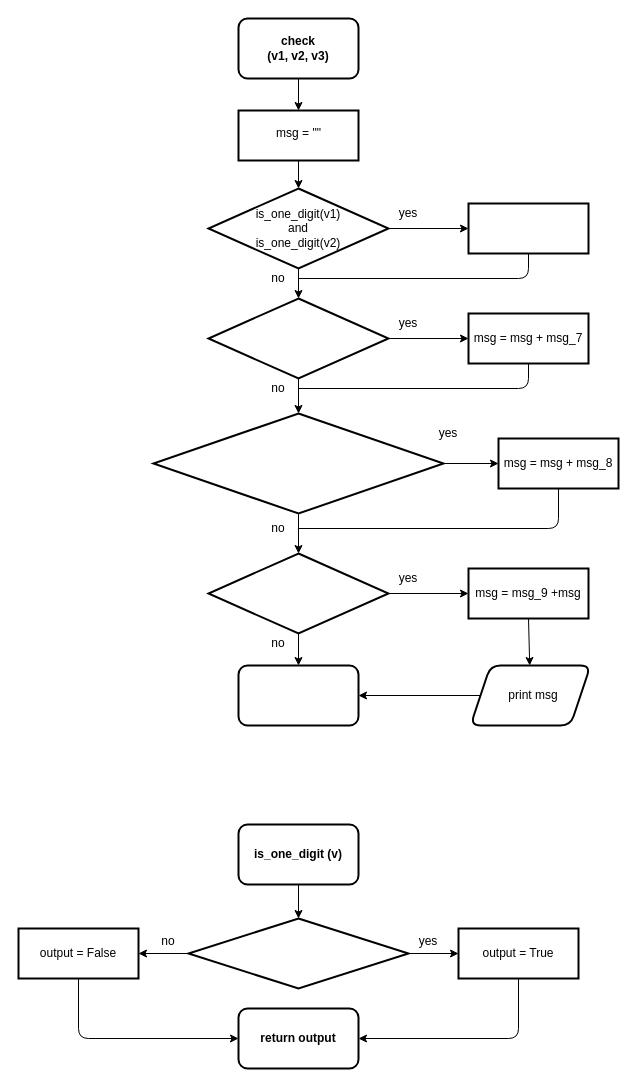
Image size: 636x1086. Some labels were removed from this diagram. The box of each missing label's shape, as (x1, y1, x2, y2) in pixels:
(v1 = 0 or v2 = 0) and (v3 = "*" or v3 = "+" or v3 = "-"): (152, 412, 444, 514)
(v1 = 1 or v2 = 1) and v3 = "*": (207, 297, 389, 379)
END: (237, 664, 359, 726)
msg != "": (207, 552, 389, 634)
msg = msg + msg_6: (467, 202, 589, 254)
v > -10 and v < 10 and v is integer: (187, 917, 409, 989)
